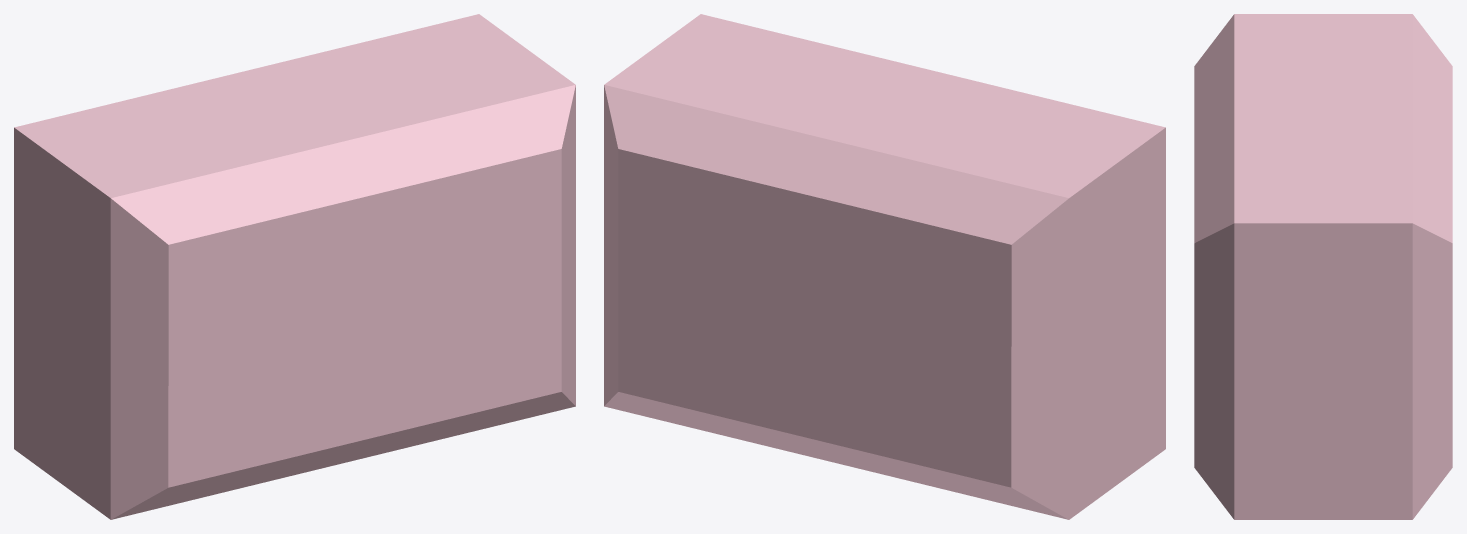
File: CreamCheese.obj
3 renders of one model, left to right at view 1: azimuth 30°, elevation 25°; view 2: azimuth 150°, elevation 25°; view 3: azimuth 270°, elevation 25°, orthographic. The views are drawn at different scales.
Parts seen in each view (by area): view 1: Cube_Cube.002; view 2: Cube_Cube.002; view 3: Cube_Cube.002.
Part boxes in pixels (x1,y1,x2,y2): Cube_Cube.002: (14, 14, 575, 519); Cube_Cube.002: (604, 14, 1165, 519); Cube_Cube.002: (1194, 14, 1452, 519).
Bounding box in the file's own units: 0.1491 × 0.0986 × 0.0779.
